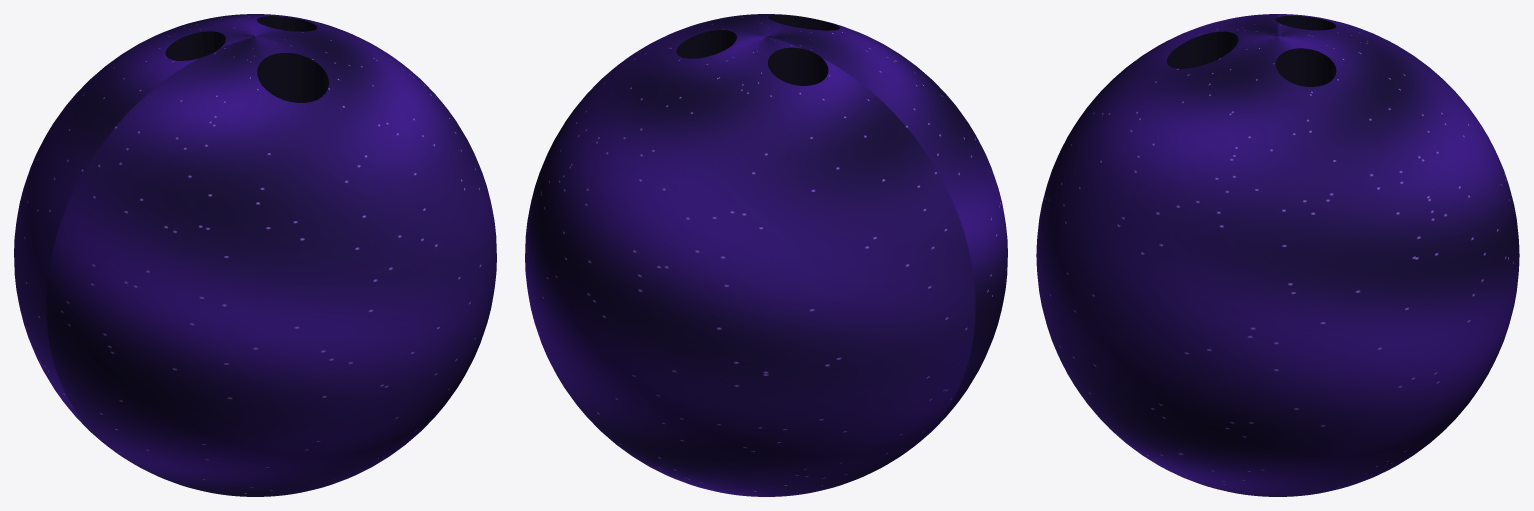
File: neon-pearl-ball.glb
3 renders of one model, left to right at view 1: azimuth 30°, elevation 25°; view 2: azimuth 150°, elevation 25°; view 3: azimuth 270°, elevation 25°, orthographic.
Parts seen in each view (by area): view 1: PearlBall; view 2: PearlBall; view 3: PearlBall.
Boxes of the visible parts, x1=… form: PearlBall: x1=14, y1=14, x2=496, y2=496; PearlBall: x1=525, y1=14, x2=1007, y2=496; PearlBall: x1=1036, y1=14, x2=1519, y2=496.
Bounding box in the file's own units: 0.43 × 0.43 × 0.43.
Materials: 2 (1 with a texture image).
